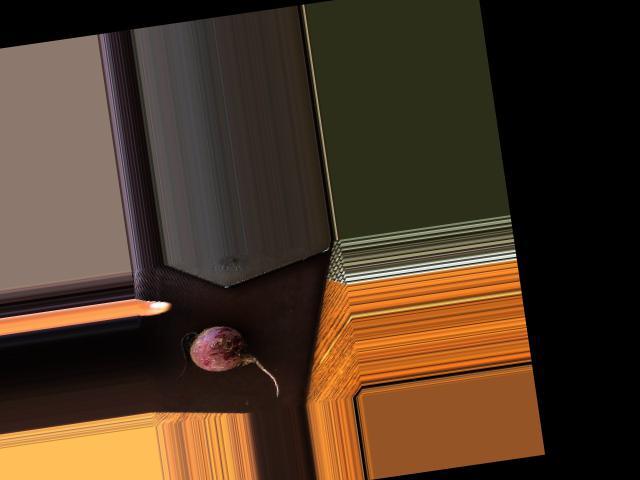beet: (172, 318, 280, 409)
